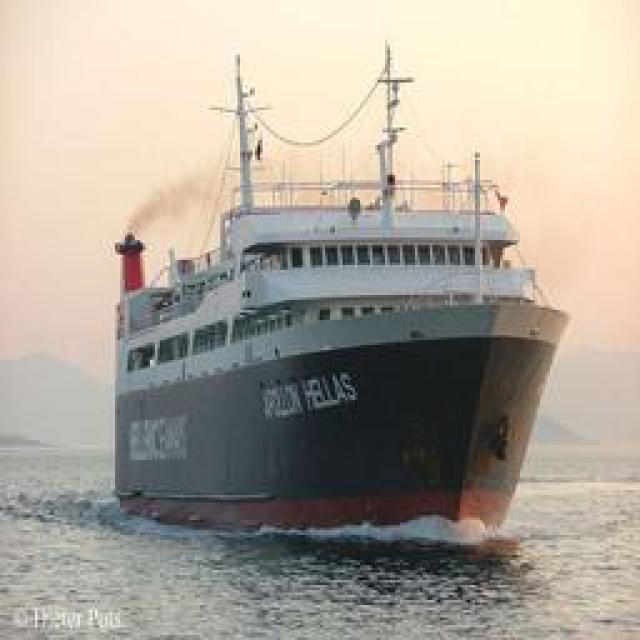Ship: (111, 50, 564, 550)
